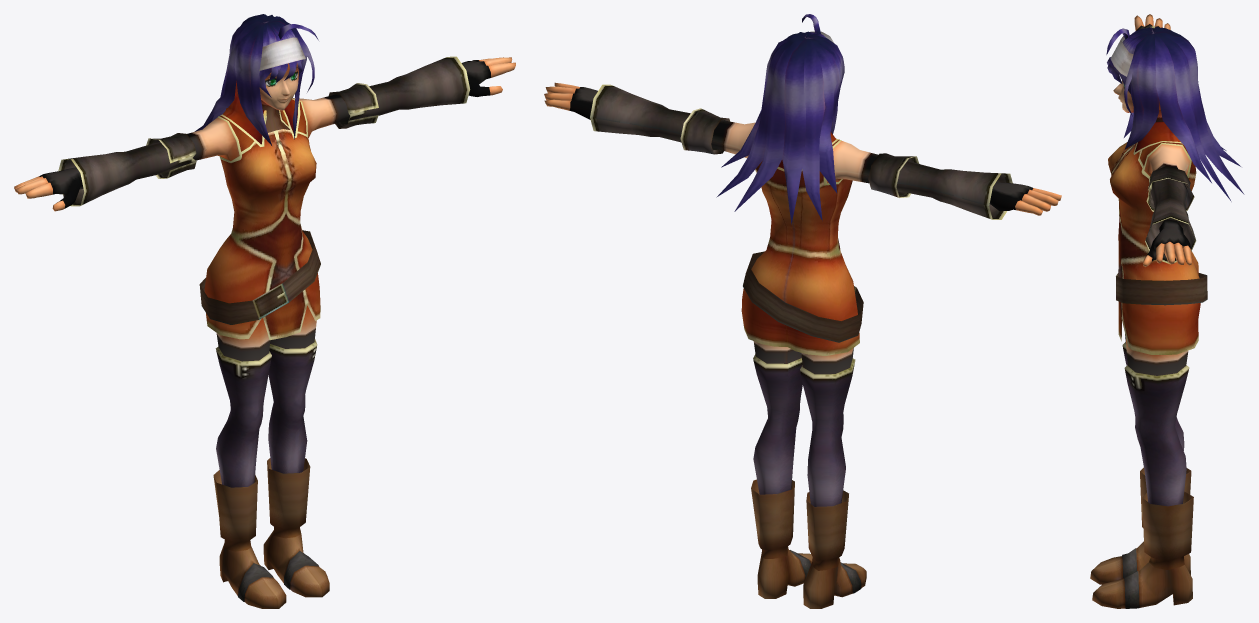
File: Mia.FBX
3 views of the same model, side by side, from view 1: azimuth 30°, elevation 25°; view 2: azimuth 150°, elevation 25°; view 3: azimuth 270°, elevation 25° (orthographic).
Visible parts, largest first — view 1: Mia T-Posed; view 2: Mia T-Posed; view 3: Mia T-Posed.
Boxes of the visible parts, x1,y1,x2,y2 form: Mia T-Posed: [14, 14, 515, 608]; Mia T-Posed: [544, 14, 1061, 608]; Mia T-Posed: [1090, 14, 1244, 608].
Bounding box in the file's own units: 14194 × 3768 × 15158.
Materials: 3 (3 with a texture image).
